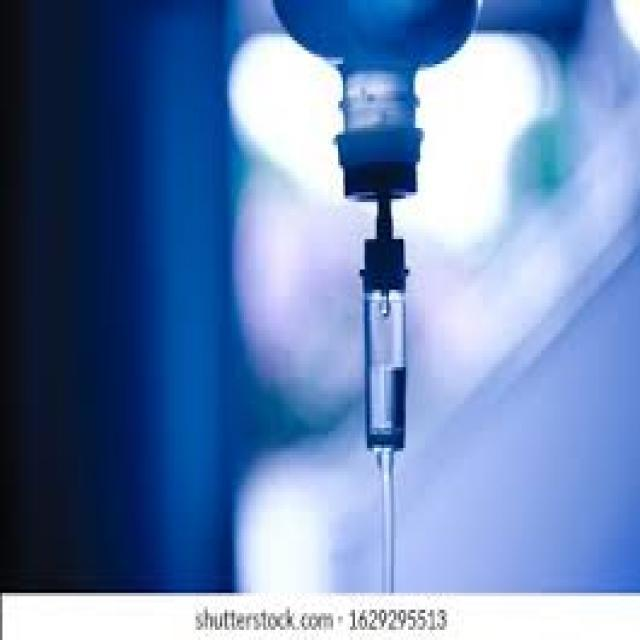iv_fluids: (317, 23, 501, 597)
